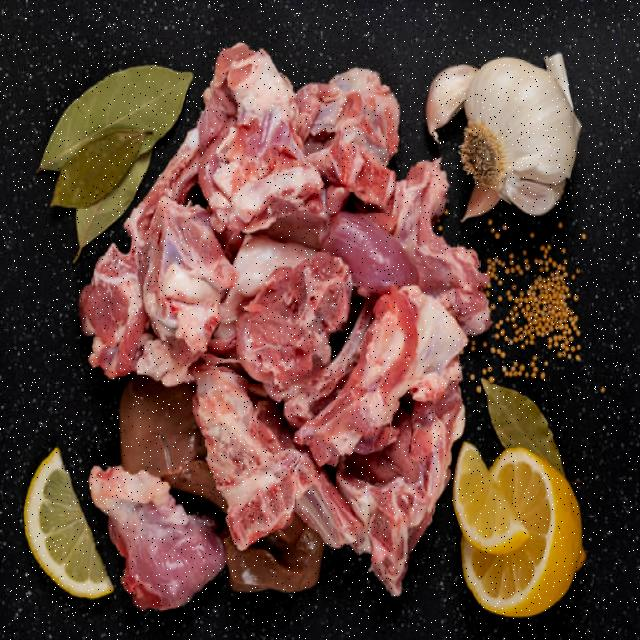Garlic: (425, 25, 626, 220)
Lime: (456, 432, 590, 588), (5, 446, 109, 621)
Mutton: (131, 65, 438, 553)
